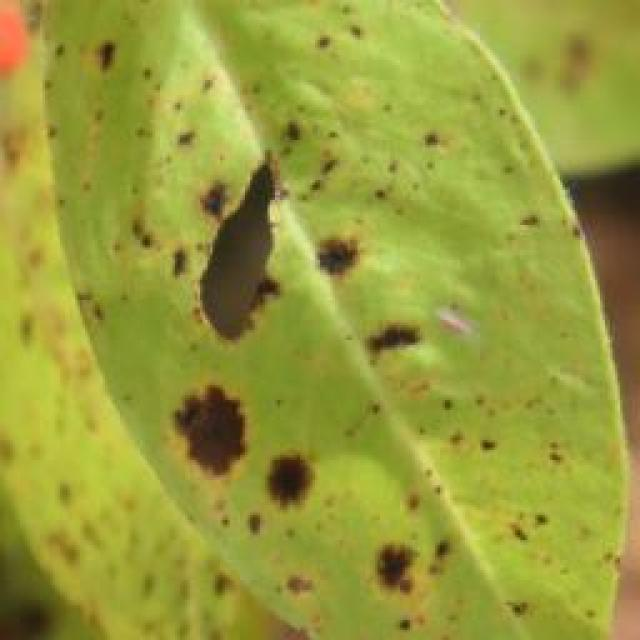Yellowish: (33, 0, 568, 640)
